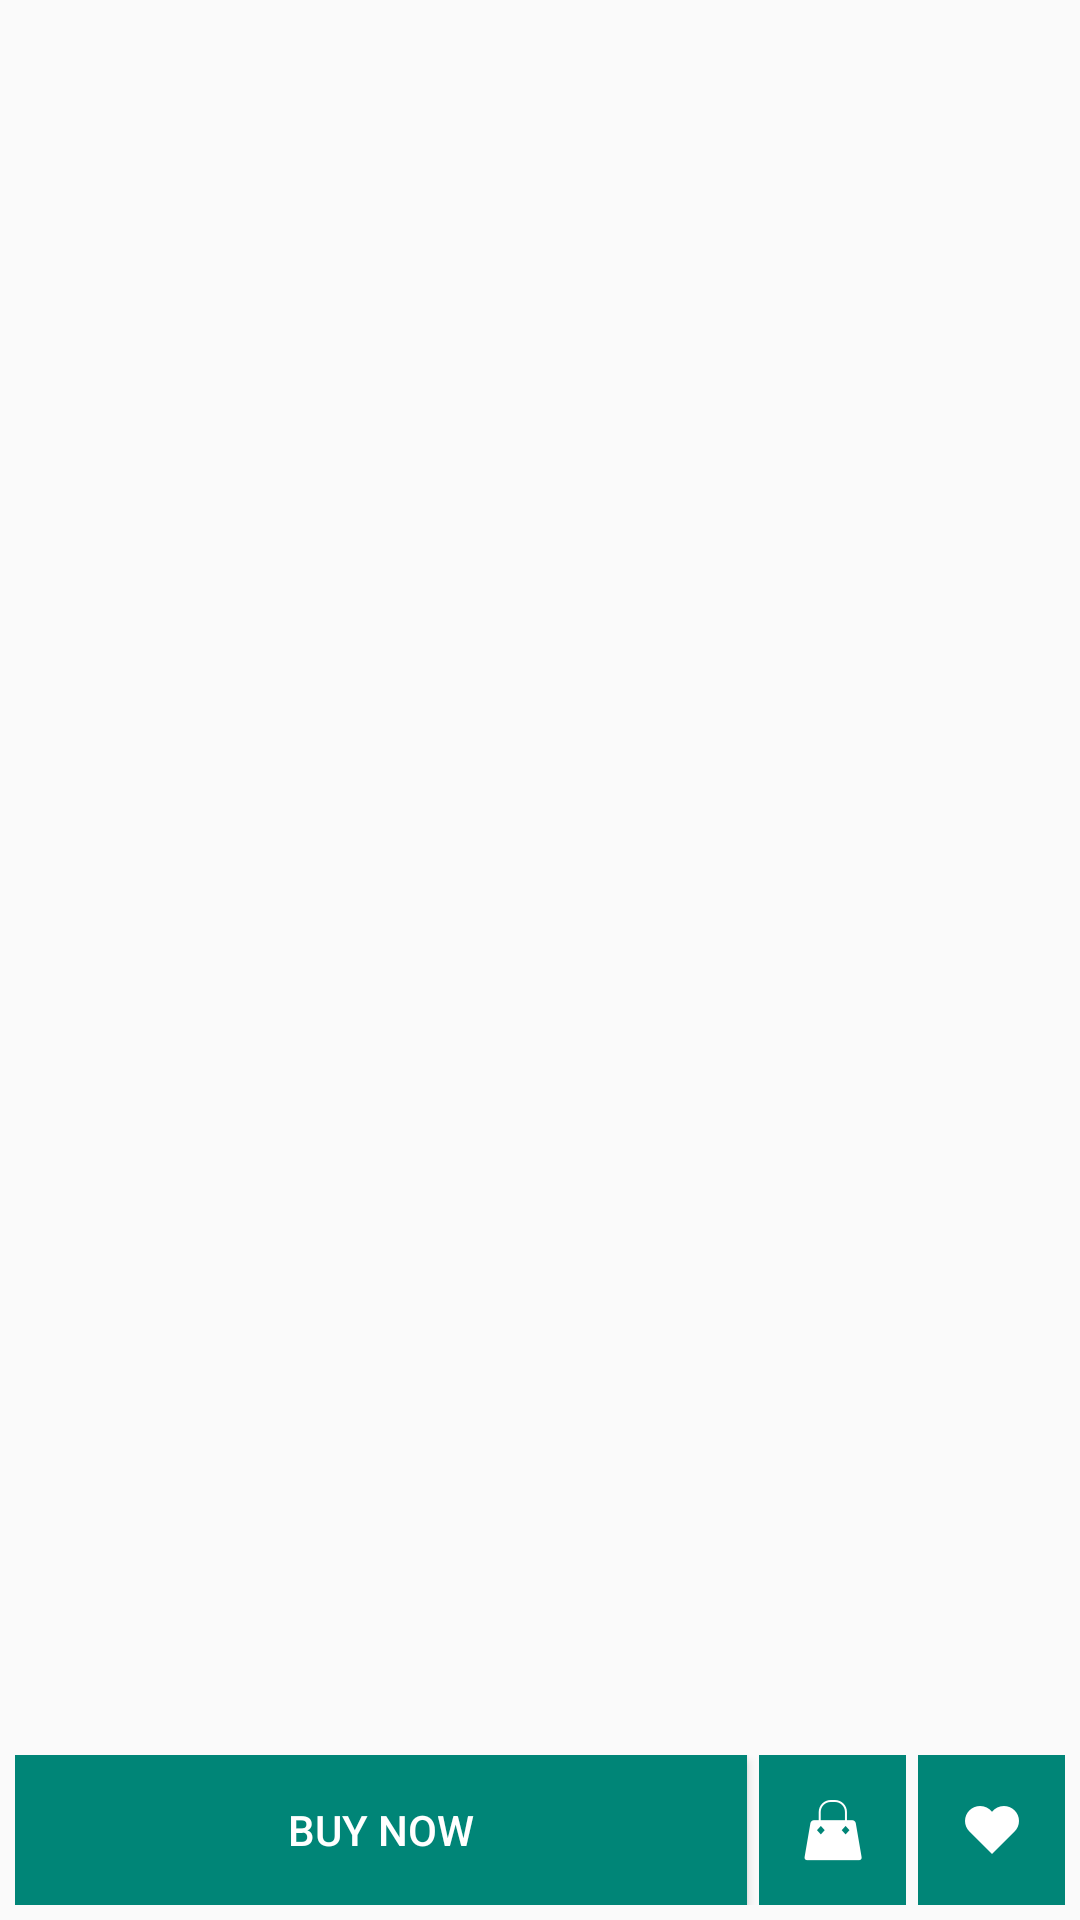

Named icons in this screenshot (1080 x 1920) and their bounding boxes, (x1, y1, x2, y2):
bag: (759, 1755, 906, 1905)
heart: (918, 1755, 1065, 1905)
